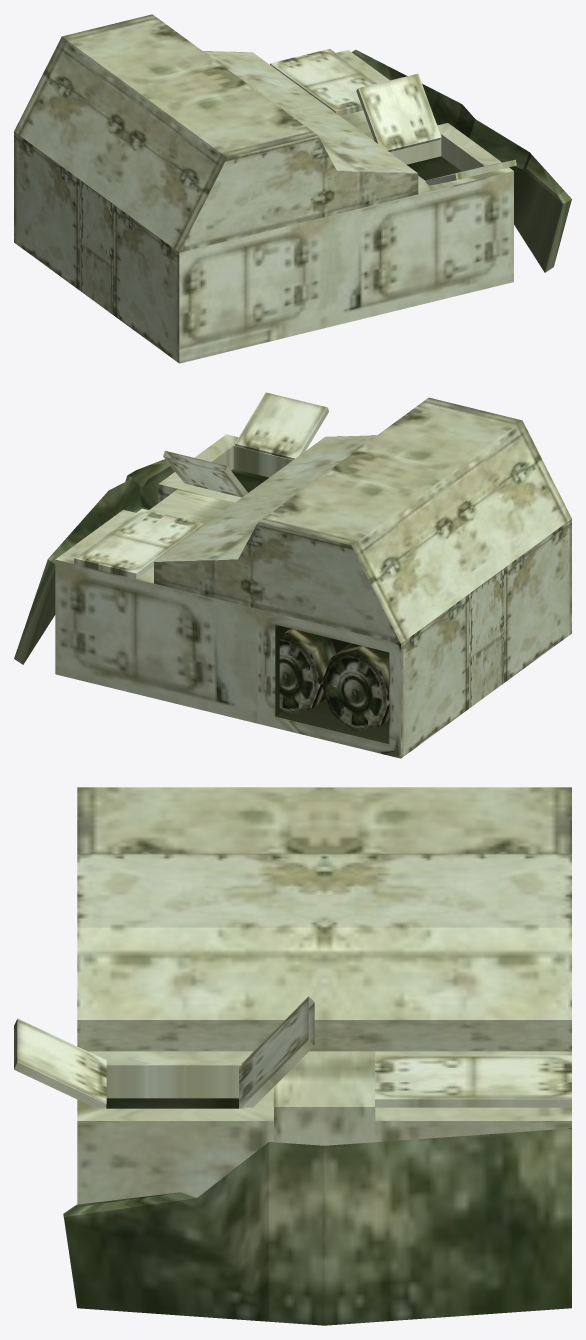
File: wreck_hull.obj
The picture shows the model from 3 angles, top to bottom: view 1: azimuth 30°, elevation 25°; view 2: azimuth 150°, elevation 25°; view 3: azimuth 270°, elevation 25°; orthographic projection. The views are drawn at different scales.
Parts seen in each view (by area): view 1: Cube.010, Cube.013, Cube.011, Cube.015, Cube.014, Cube.009, Cube.012, Cube.017; view 2: Cube.010, Cube.011, Cube.013, Cube.009, Cube.015, Cylinder.005, Cube.012, Cube.017, Cylinder.006, Cube.014; view 3: Cube.010, Cube.015, Cube.013, Cube.012, Cube.009, Cube.011, Cube.017, Cube.014.
Part boxes in pixels (left/top/right/bottom): Cube.010: left=14, top=14, right=418, bottom=252; Cube.013: left=113, top=123, right=513, bottom=363; Cube.011: left=14, top=50, right=389, bottom=290; Cube.015: left=352, top=49, right=571, bottom=272; Cube.014: left=356, top=73, right=441, bottom=151; Cube.009: left=79, top=110, right=374, bottom=314; Cube.012: left=270, top=49, right=377, bottom=115; Cube.017: left=425, top=159, right=516, bottom=185; Cube.010: left=154, top=397, right=571, bottom=643; Cube.011: left=55, top=509, right=468, bottom=758; Cube.013: left=158, top=434, right=571, bottom=682; Cube.009: left=149, top=489, right=503, bottom=708; Cube.015: left=14, top=459, right=174, bottom=664; Cylinder.005: left=321, top=643, right=389, bottom=731; Cube.012: left=74, top=508, right=204, bottom=578; Cube.017: left=235, top=392, right=328, bottom=459; Cylinder.006: left=279, top=628, right=336, bottom=714; Cube.014: left=163, top=451, right=247, bottom=497; Cube.010: left=77, top=787, right=571, bottom=1051; Cube.015: left=63, top=1127, right=571, bottom=1325; Cube.013: left=77, top=1051, right=273, bottom=1204; Cube.012: left=375, top=1055, right=571, bottom=1107; Cube.009: left=273, top=1051, right=375, bottom=1145; Cube.011: left=375, top=1051, right=571, bottom=1142; Cube.017: left=14, top=1018, right=106, bottom=1107; Cube.014: left=239, top=996, right=314, bottom=1108.
Bounding box in the file's own units: 3.6 × 1.68 × 2.92.
1 material, 1 textured.
